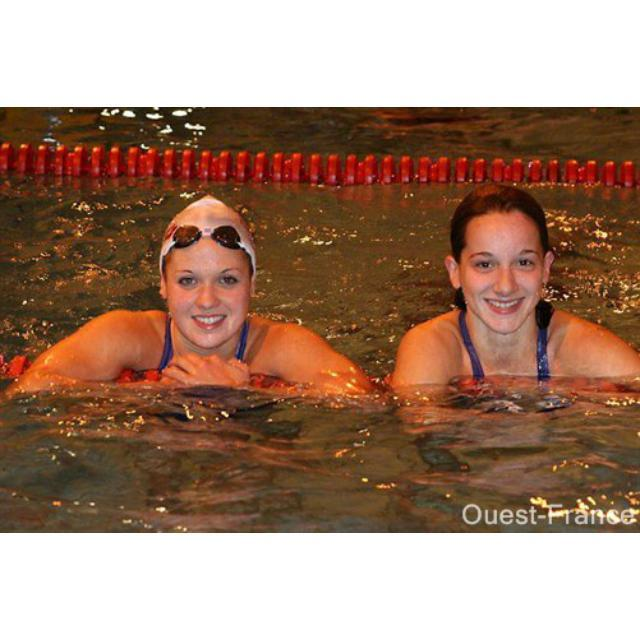human: (12, 193, 382, 401), (388, 184, 639, 390)
